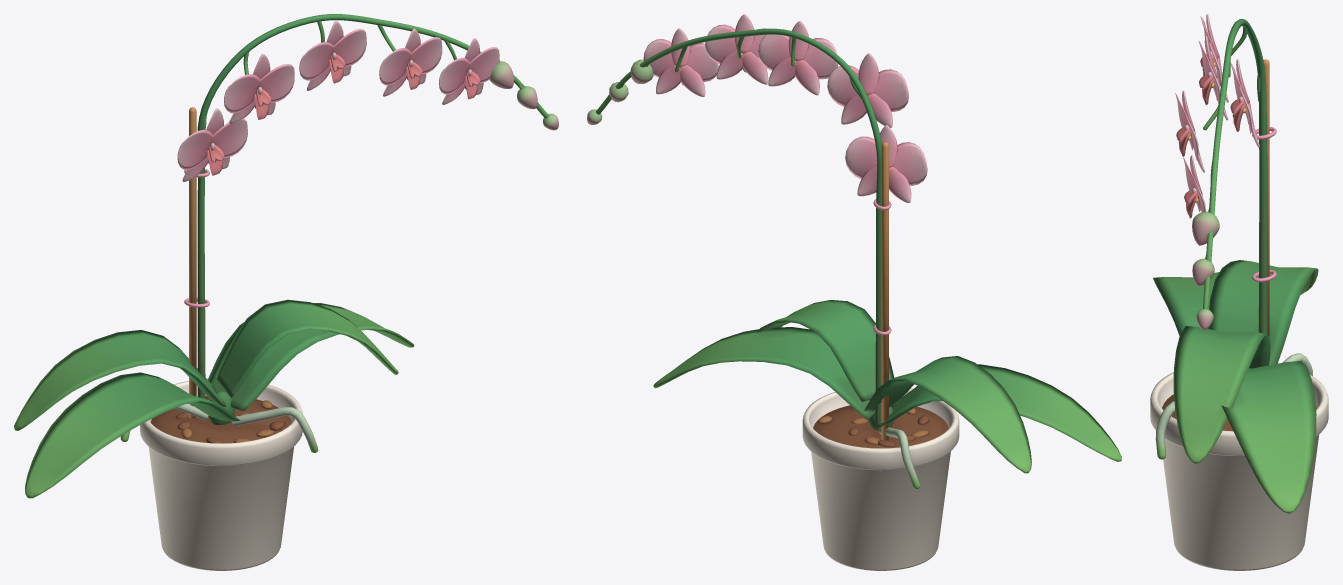
The model's file is orchid.glb.
3 renders of one model, left to right at view 1: azimuth 30°, elevation 25°; view 2: azimuth 150°, elevation 25°; view 3: azimuth 270°, elevation 25°, orthographic. The views are drawn at different scales.
Parts seen in each view (by area): view 1: orchid_body; view 2: orchid_body; view 3: orchid_body.
Part boxes in pixels (x1,y1,x2,y2): orchid_body: [14, 14, 558, 570]; orchid_body: [587, 14, 1121, 570]; orchid_body: [1150, 14, 1328, 570].
Size of the model in its own units: 0.523 by 0.4724 by 0.136.
1 material, 1 textured.
